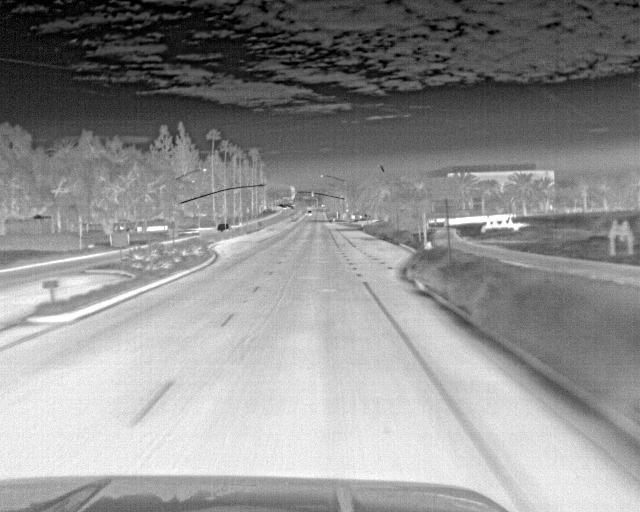car: (216, 220, 233, 233)
